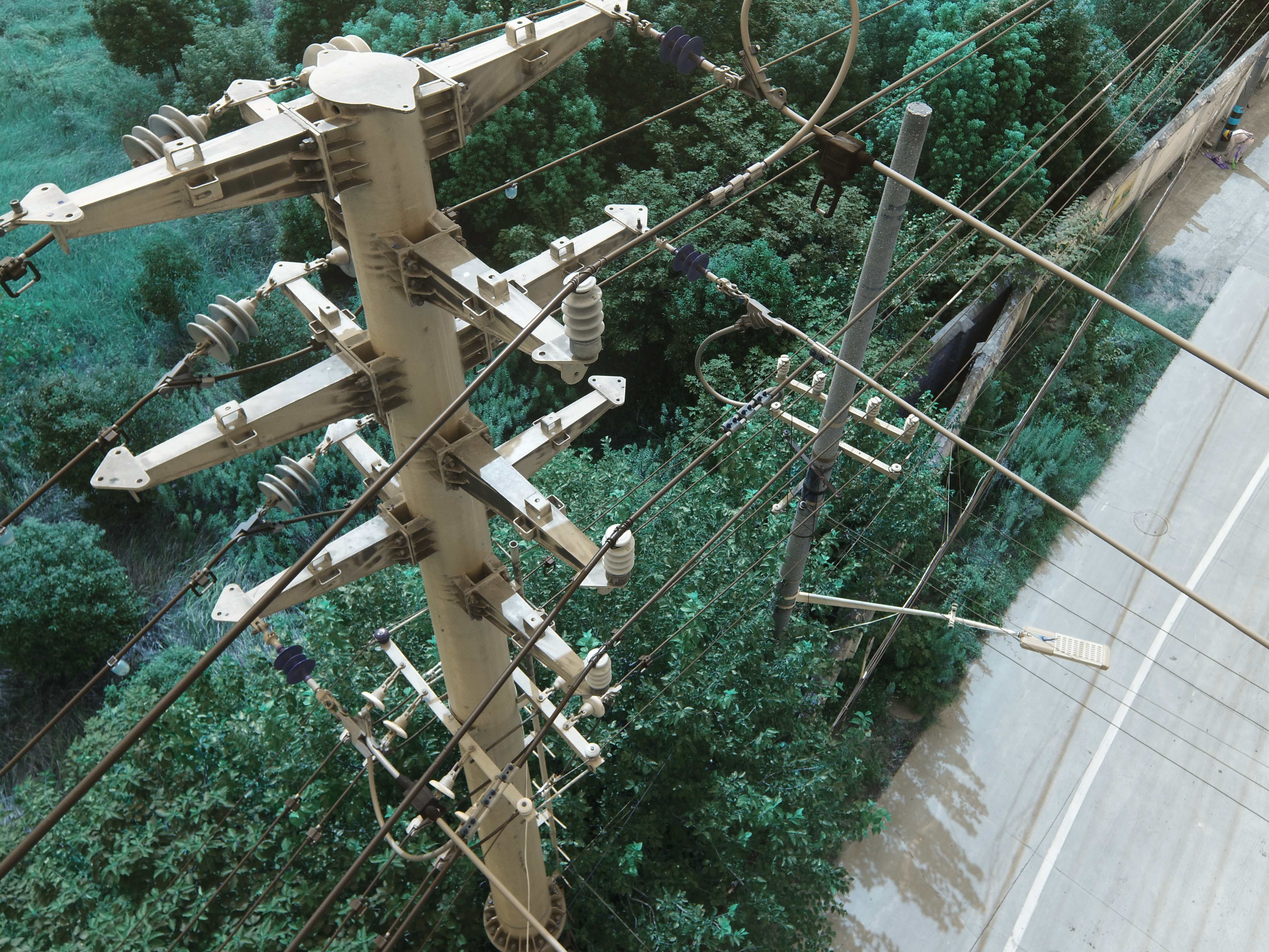severe_soiling_no_discharge_whole: (781, 428, 791, 438), (834, 488, 843, 499), (799, 501, 808, 510)
